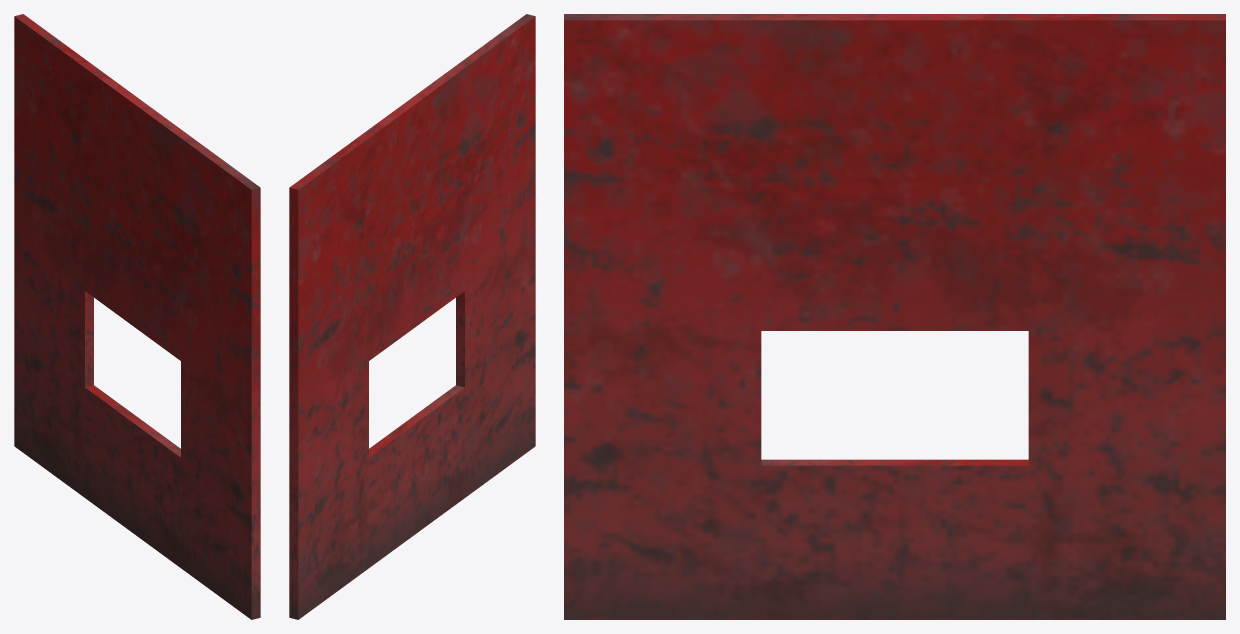
Rendered from WindowWallRed_SM.fbx.
The picture shows the model from 3 angles, left to right: view 1: azimuth 30°, elevation 25°; view 2: azimuth 150°, elevation 25°; view 3: azimuth 270°, elevation 25°; orthographic projection. The views are drawn at different scales.
Parts seen in each view (by area): view 1: WindowWall; view 2: WindowWall; view 3: WindowWall.
Part boxes in pixels (box(x1,y1,x2,y2)): WindowWall: box(14, 14, 260, 619); WindowWall: box(289, 14, 535, 619); WindowWall: box(564, 14, 1225, 619).
Size of the model in its own units: 10 by 450 by 450.
Materials: 1 (1 with a texture image).
